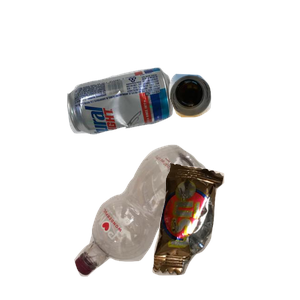glass: (166, 71, 300, 181)
metal: (65, 65, 231, 192)
plastic: (72, 142, 273, 300)
trash: (150, 160, 300, 300)
